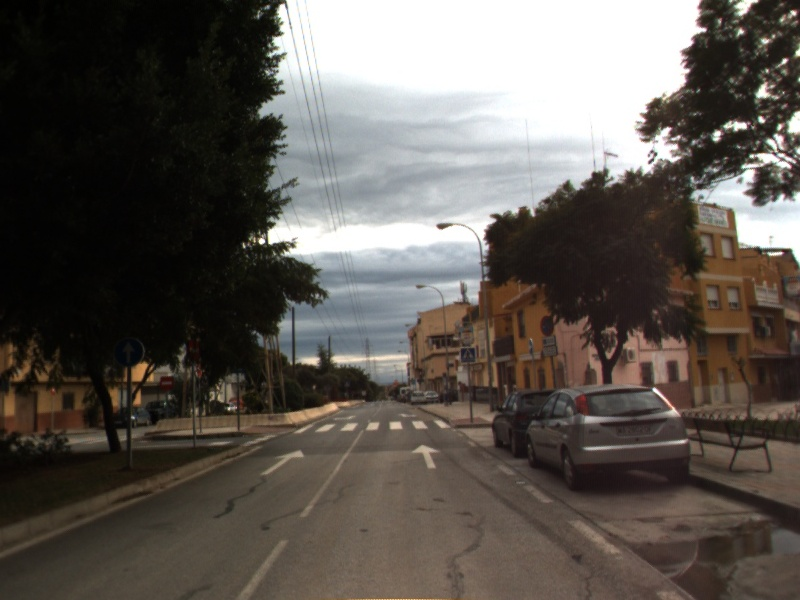STRAIGHT: (258, 447, 306, 477), (409, 442, 443, 470)
